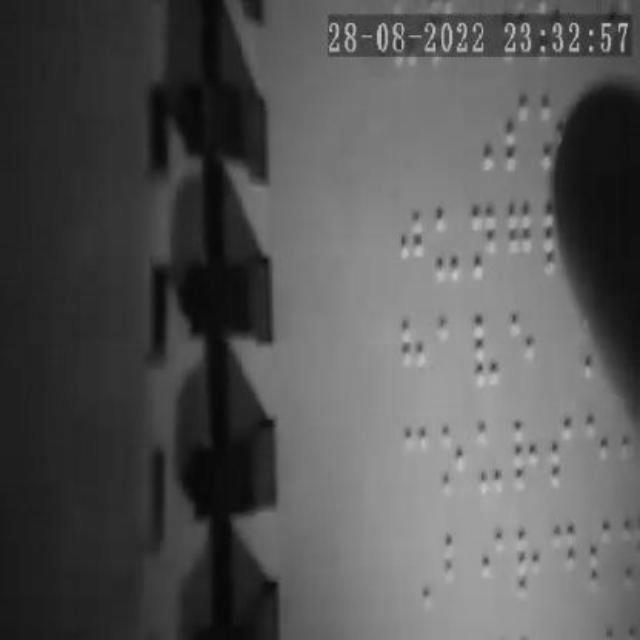braiile: (502, 84, 540, 180), (542, 194, 578, 290), (511, 522, 549, 612), (430, 200, 466, 292), (436, 309, 472, 401), (436, 418, 472, 508), (584, 510, 620, 600), (437, 520, 473, 610), (506, 308, 540, 402), (502, 195, 536, 288), (475, 416, 511, 502), (468, 198, 500, 294), (550, 517, 584, 607), (396, 314, 428, 404), (400, 420, 432, 510), (512, 416, 544, 506), (549, 409, 579, 505), (396, 200, 428, 288), (472, 308, 502, 398), (479, 522, 509, 608), (583, 412, 613, 492)
